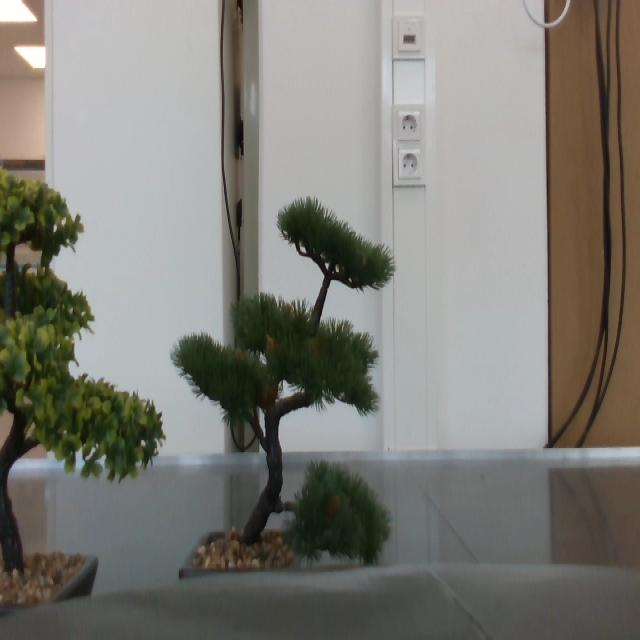potted plant: (170, 194, 396, 565), (1, 165, 166, 577)
